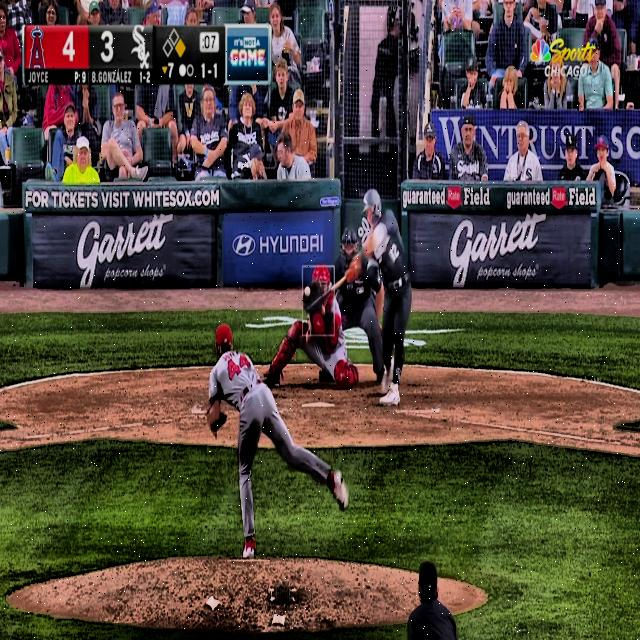baseball: (304, 285, 310, 298)
